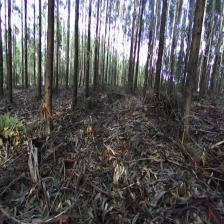trunk: (180, 6, 204, 130), (42, 6, 54, 132), (153, 2, 167, 97), (71, 13, 79, 111), (134, 18, 142, 88), (84, 28, 90, 96), (6, 37, 12, 101), (38, 16, 42, 98), (24, 28, 27, 89)
